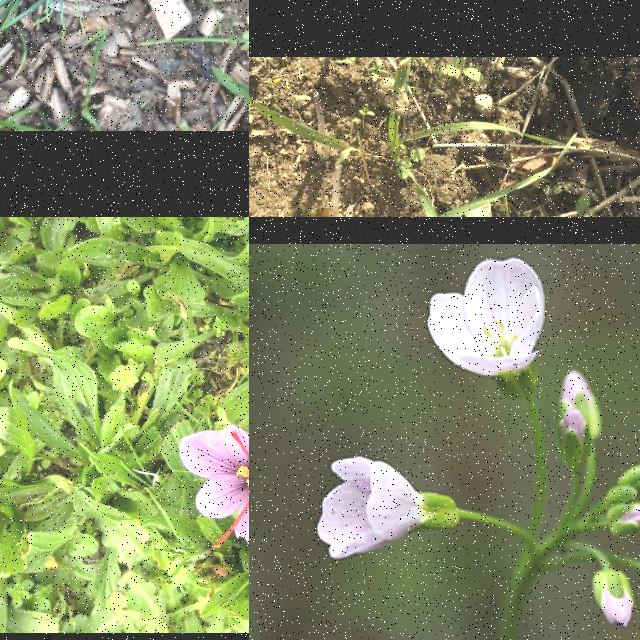flower: (178, 422, 249, 551)
